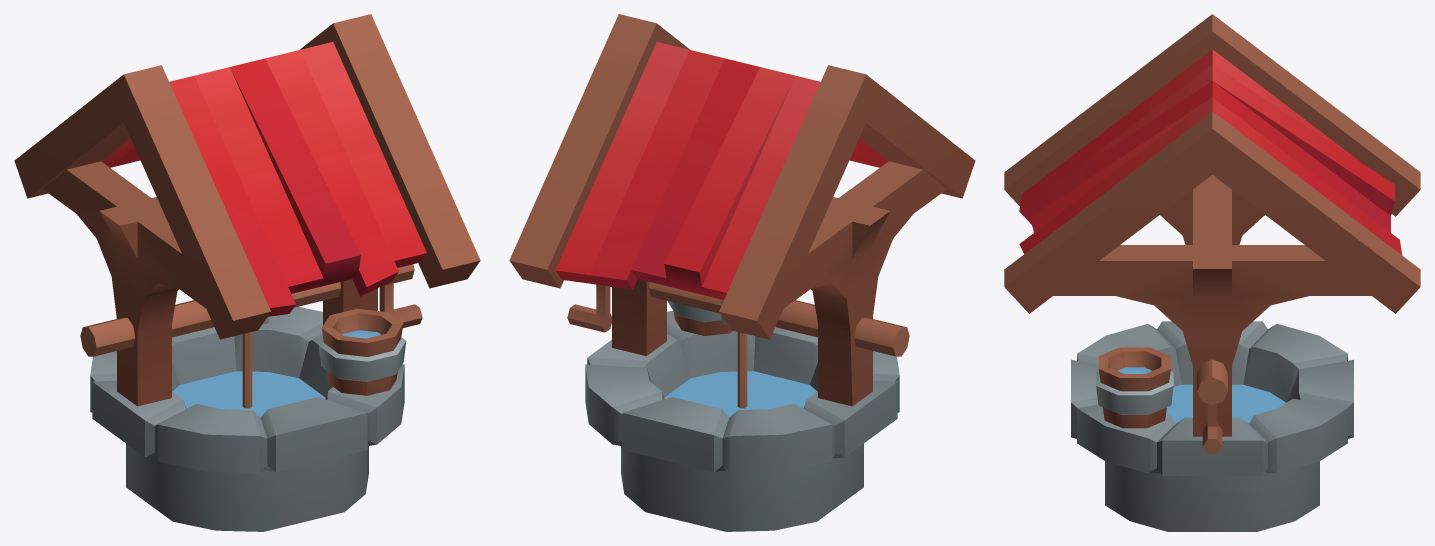
Rendered from well_red.glb.
3 views of the same model, side by side, from view 1: azimuth 30°, elevation 25°; view 2: azimuth 150°, elevation 25°; view 3: azimuth 270°, elevation 25° (orthographic). The views are drawn at different scales.
Visible parts, largest first — view 1: building_well_red; view 2: building_well_red; view 3: building_well_red.
Part boxes in pixels (left/top/right/bottom): building_well_red: left=14, top=14, right=480, bottom=531; building_well_red: left=509, top=14, right=975, bottom=531; building_well_red: left=1004, top=14, right=1420, bottom=531.
Size of the model in its own units: 0.6518 by 0.826 by 0.7507.
Materials: 1 (1 with a texture image).
